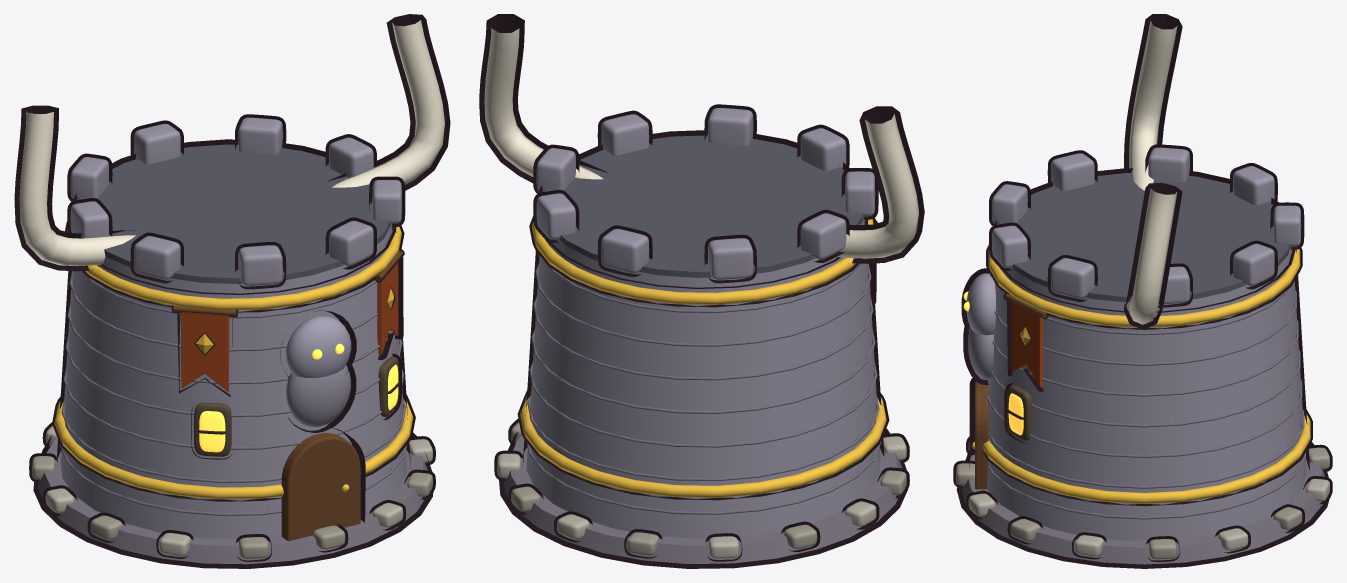
The model's file is tower_artillery.glb.
3 views of the same model, side by side, from view 1: azimuth 30°, elevation 25°; view 2: azimuth 150°, elevation 25°; view 3: azimuth 270°, elevation 25° (orthographic). The views are drawn at different scales.
Visible parts, largest first — view 1: object 34, object 43, door, object 2, banner (×2), object 78, object 80, object 76, object 74, win (×2), object 67, object 69 (+31 smaller); view 2: object 34, object 43, object 2, object 74, object 78, object 80, object 76, object 1, object 77, object 79, object 53, object 55 (+26 smaller); view 3: object 34, object 43, object 2, object 74, object 78, object 76, object 80, banner, object 1, object 77, object 79, door (+29 smaller).
Part boxes in pixels (left/top/right/bottom): object 34: left=60, top=223, right=407, bottom=539; object 43: left=79, top=144, right=390, bottom=283; door: left=281, top=428, right=365, bottom=540; object 2: left=38, top=439, right=427, bottom=564; banner (×2): left=171, top=249, right=404, bottom=396; object 78: left=19, top=111, right=135, bottom=266; object 80: left=332, top=20, right=444, bottom=187; object 76: left=67, top=226, right=401, bottom=310; object 74: left=54, top=400, right=413, bottom=499; win (×2): left=191, top=353, right=401, bottom=459; object 67: left=286, top=316, right=351, bottom=378; object 69: left=286, top=365, right=350, bottom=427; object 34: left=526, top=216, right=880, bottom=538; object 43: left=544, top=135, right=863, bottom=277; object 2: left=504, top=434, right=902, bottom=563; object 74: left=520, top=397, right=886, bottom=497; object 78: left=838, top=113, right=918, bottom=258; object 80: left=484, top=27, right=603, bottom=179; object 76: left=532, top=219, right=873, bottom=304; object 1: left=499, top=428, right=907, bottom=568; object 77: left=797, top=106, right=924, bottom=263; object 79: left=479, top=14, right=607, bottom=183; object 53: left=601, top=228, right=649, bottom=273; object 55: left=708, top=238, right=753, bottom=279; object 34: left=987, top=246, right=1306, bottom=540; object 43: left=999, top=173, right=1290, bottom=302; object 2: left=961, top=454, right=1324, bottom=564; object 74: left=983, top=414, right=1310, bottom=503; object 78: left=1129, top=20, right=1177, bottom=190; object 76: left=988, top=249, right=1300, bottom=327; object 80: left=1129, top=188, right=1177, bottom=324; banner: left=1003, top=292, right=1048, bottom=391; object 1: left=956, top=442, right=1329, bottom=568; object 77: left=1124, top=14, right=1182, bottom=168; object 79: left=1124, top=183, right=1182, bottom=329; door: left=969, top=378, right=988, bottom=489.
Size of the model in its own units: 2.36 by 2.17 by 1.92.
